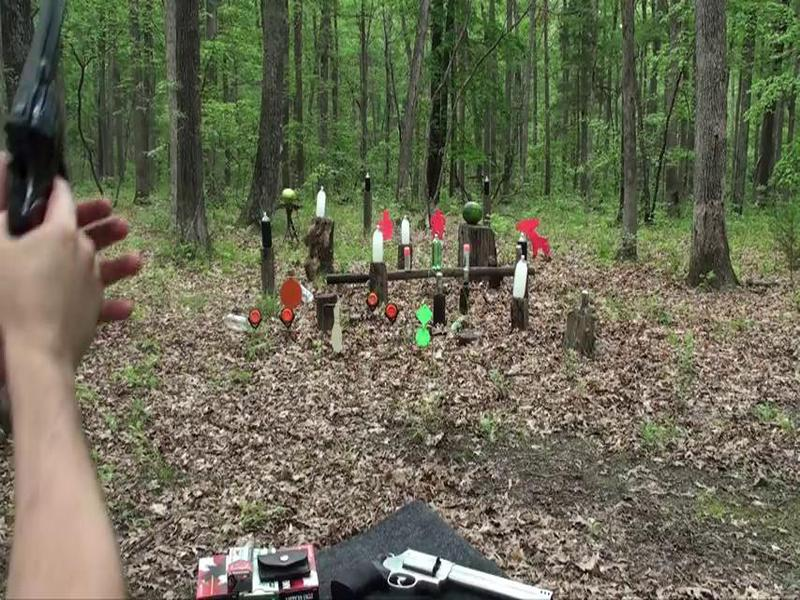Revolver: (3, 1, 113, 274)
